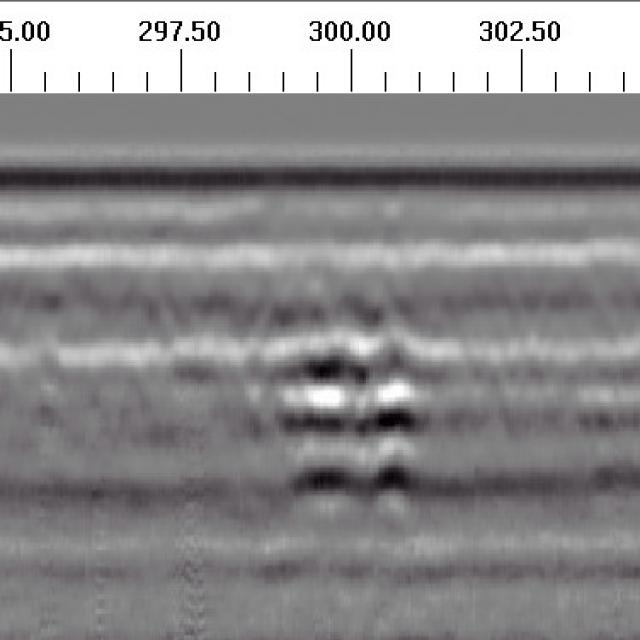loose: (251, 332, 456, 531)
